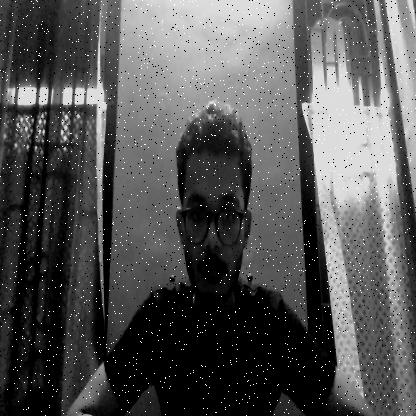Normal: (171, 102, 258, 305)
